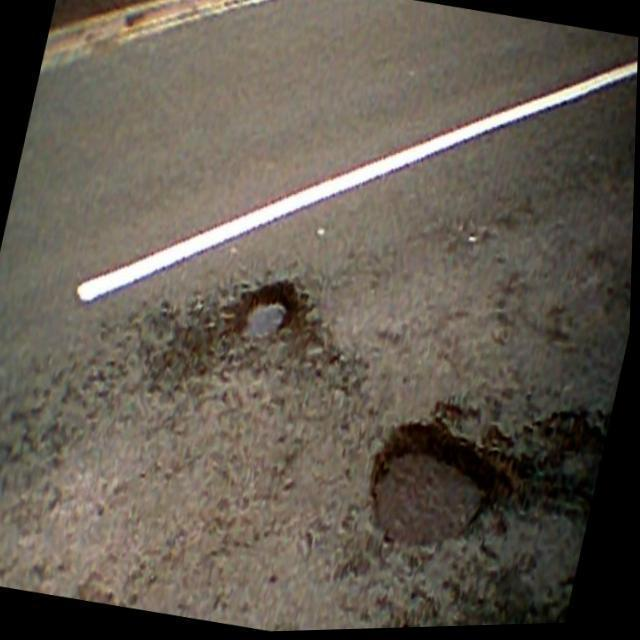Pothole: (370, 428, 499, 555), (240, 282, 299, 347)
